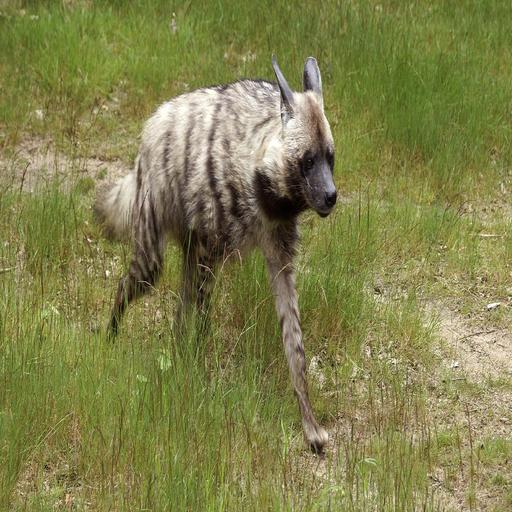Hyena: (95, 46, 343, 456)
